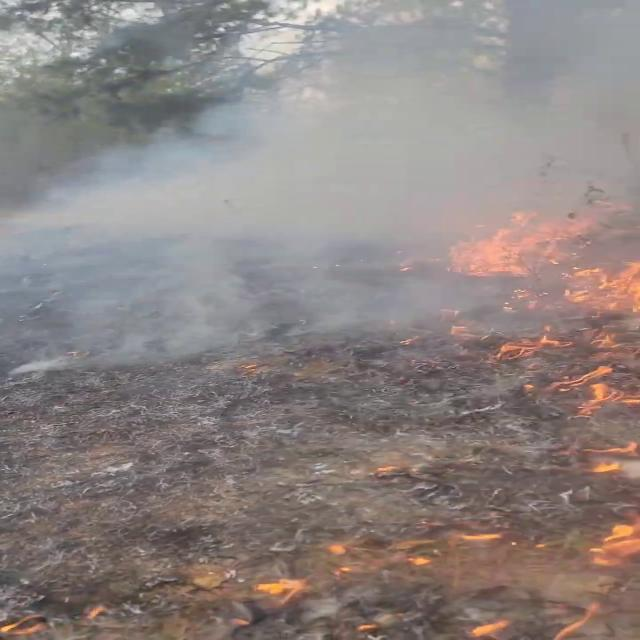Fire: (446, 204, 640, 328)
Smoke: (6, 0, 637, 384)
